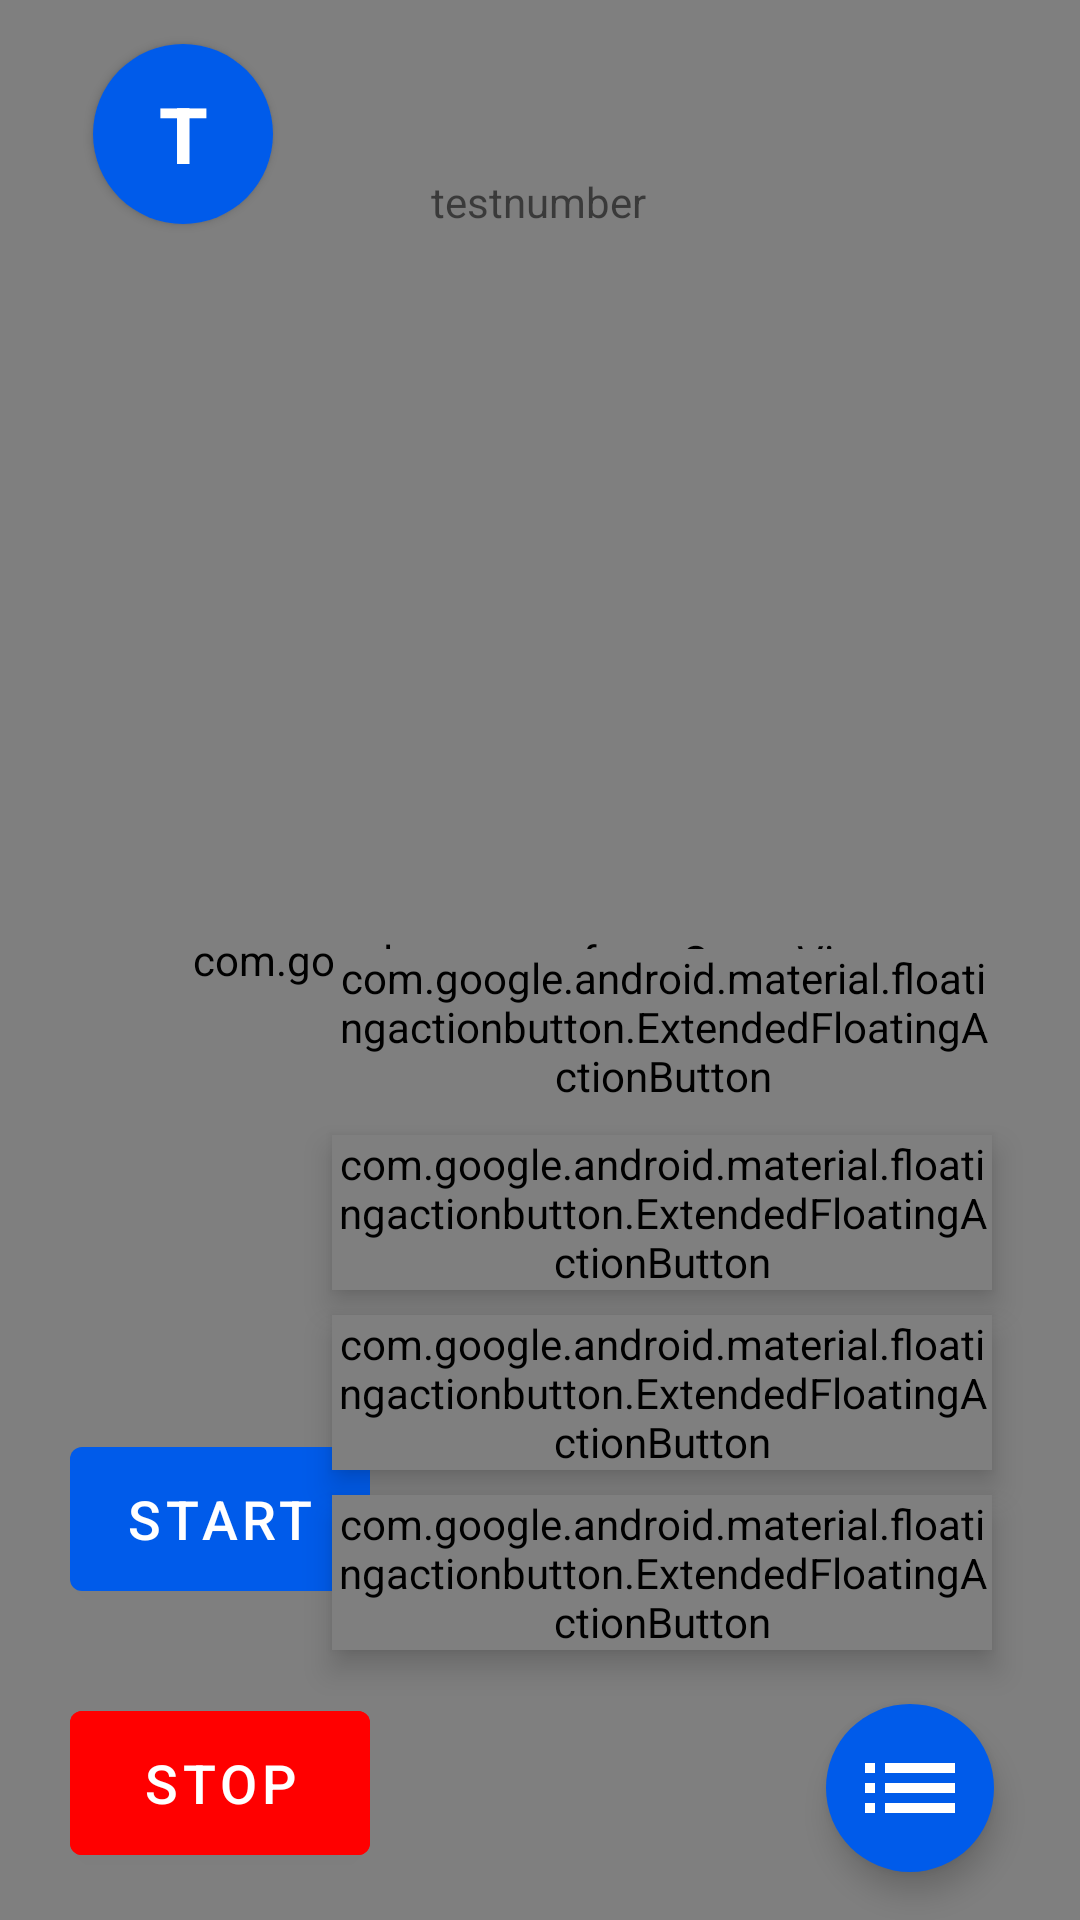

Icon bounding boxes for this 1080px x 1920px phone screenshot, format (x1, y1, x2, y2):
menu: (826, 1704, 994, 1872)
